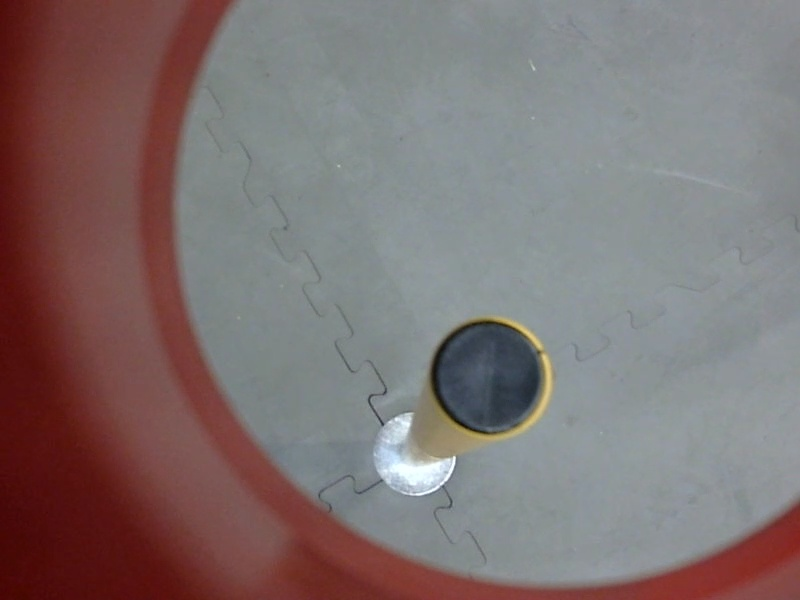tip: (420, 310, 559, 446)
